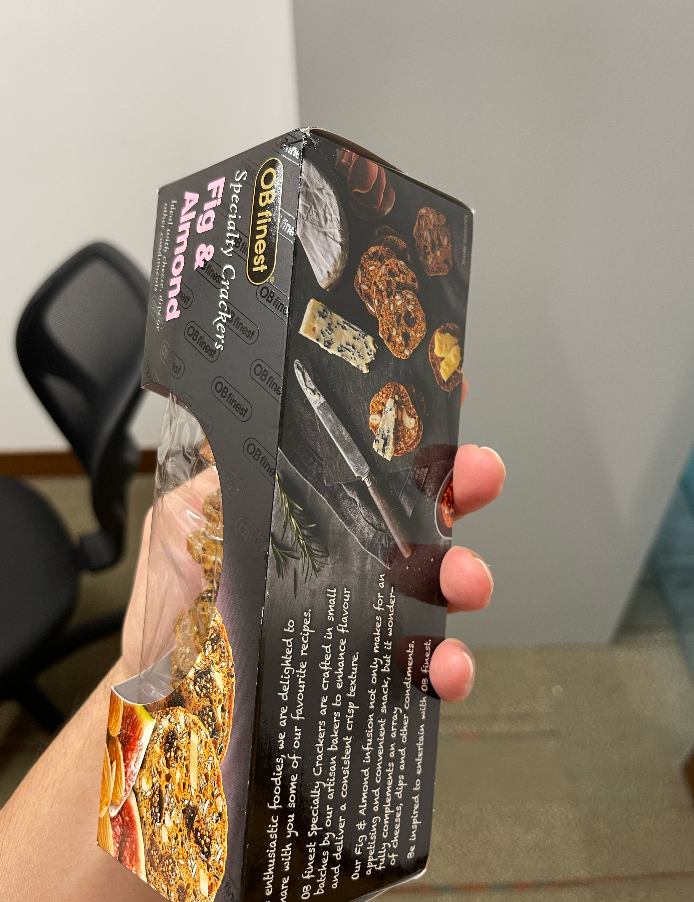crackers_100g-199g: (152, 216, 426, 837)
